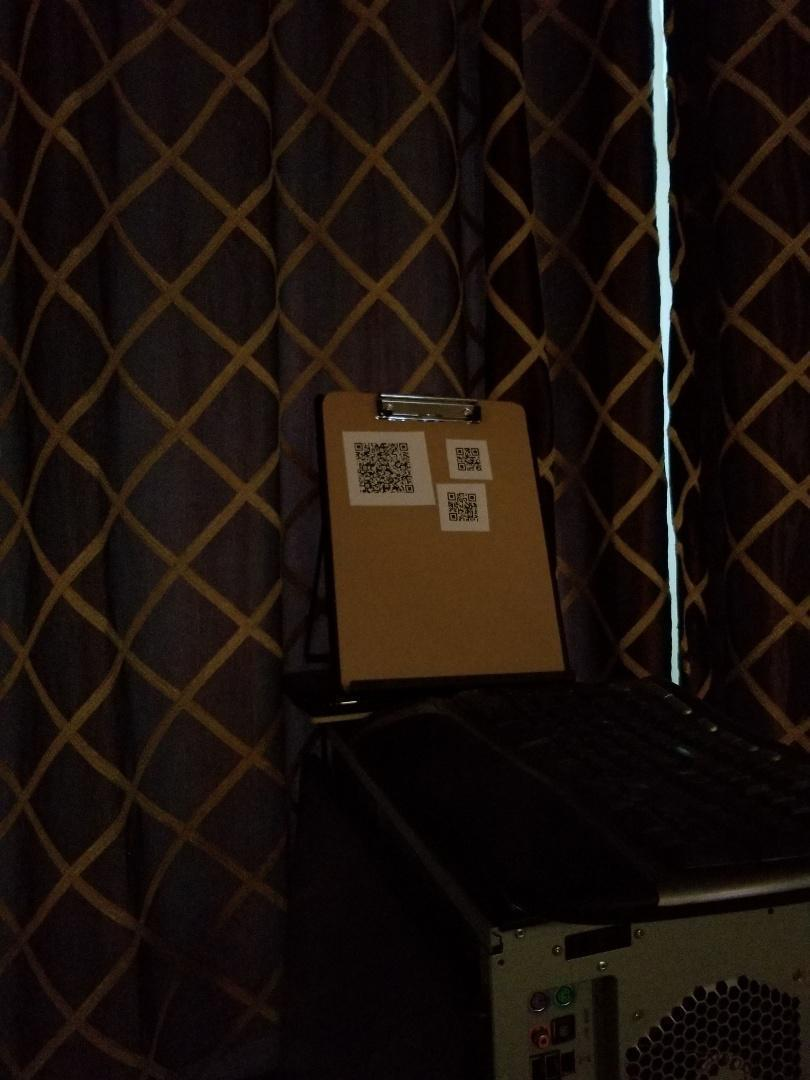qr_code: (354, 442, 415, 494), (447, 492, 479, 522), (456, 448, 482, 472)
